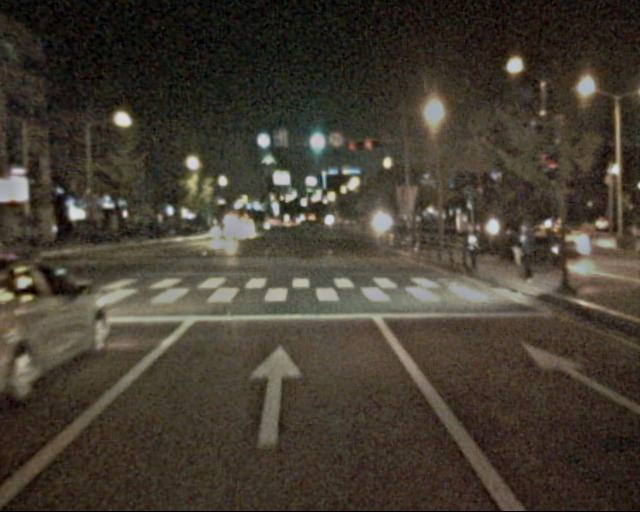person: (511, 219, 538, 286), (458, 224, 482, 282), (504, 222, 525, 273)
